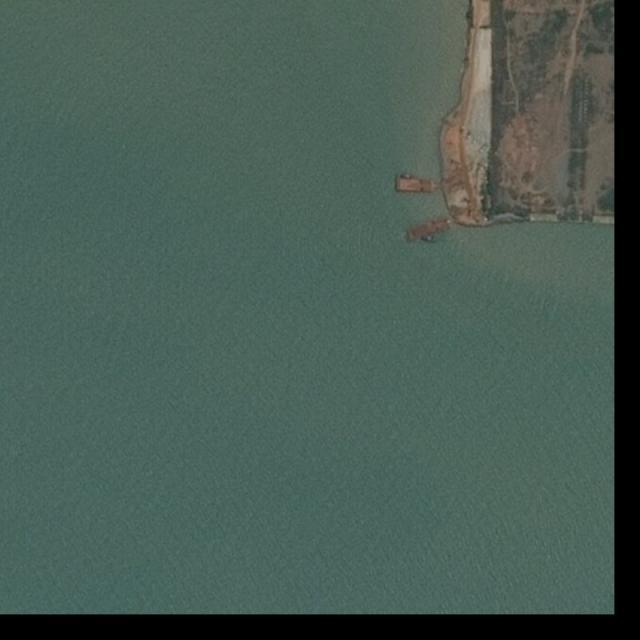ship: (405, 217, 453, 243), (401, 178, 441, 193), (395, 174, 401, 192), (422, 237, 438, 243), (402, 174, 411, 179)
